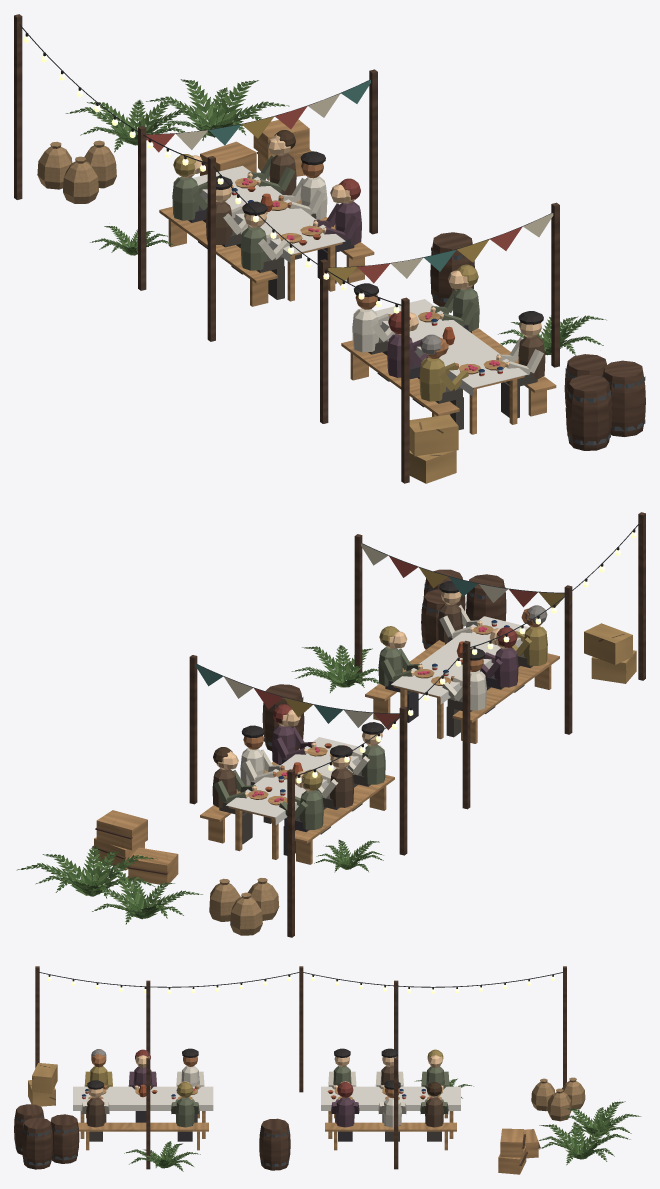
The model's file is props_w.glb.
3 renders of one model, top to bottom at view 1: azimuth 30°, elevation 25°; view 2: azimuth 150°, elevation 25°; view 3: azimuth 270°, elevation 25°, orthographic. The views are drawn at different scales.
Parts seen in each view (by area): view 1: props_w_tables, props_w_props, props_w_garlands, props_w_vegetation; view 2: props_w_tables, props_w_garlands, props_w_props, props_w_vegetation; view 3: props_w_tables, props_w_props, props_w_garlands, props_w_vegetation.
Part boxes in pixels (left/top/right/bottom): props_w_tables: left=159, top=130, right=556, bottom=434; props_w_props: left=37, top=119, right=645, bottom=483; props_w_garlands: left=14, top=14, right=559, bottom=483; props_w_vegetation: left=65, top=79, right=606, bottom=355; props_w_tables: left=200, top=581, right=559, bottom=864; props_w_garlands: left=189, top=512, right=645, bottom=937; props_w_props: left=92, top=569, right=636, bottom=935; props_w_vegetation: left=16, top=645, right=383, bottom=924; props_w_tables: left=73, top=1048, right=460, bottom=1150; props_w_props: left=14, top=1063, right=585, bottom=1174; props_w_garlands: left=35, top=966, right=566, bottom=1169; props_w_vegetation: left=124, top=1078, right=641, bottom=1171.
Bounding box in the file's own units: 4.54 × 2.6 × 11.98.
Materials: 13 (8 with a texture image).
